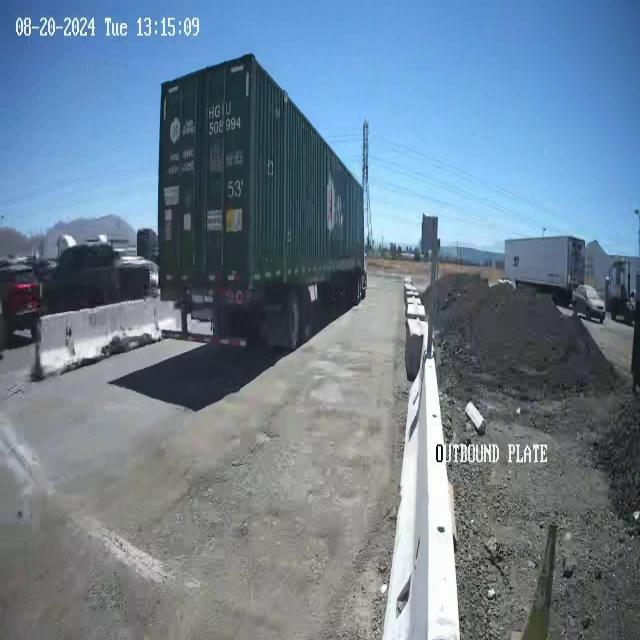TRUCK_CONTAINER: (156, 51, 366, 352)
